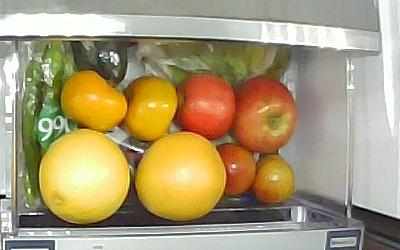apple: (234, 76, 298, 154), (174, 73, 236, 140)
grapefruit: (37, 130, 129, 225), (134, 132, 226, 222)
persimmon: (59, 68, 128, 133), (122, 76, 177, 141)
prune: (215, 144, 256, 200), (254, 155, 295, 205)
